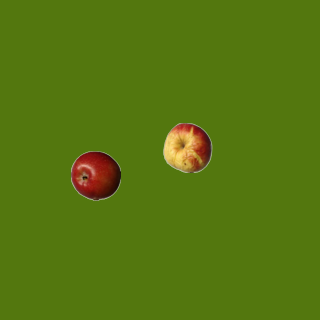Apple Braeburn: (70, 150, 120, 200)
Apple Red Yellow 1: (162, 122, 212, 172)
